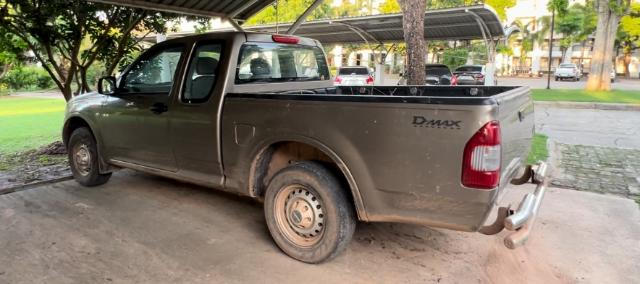pickup-truck: (59, 28, 551, 268)
